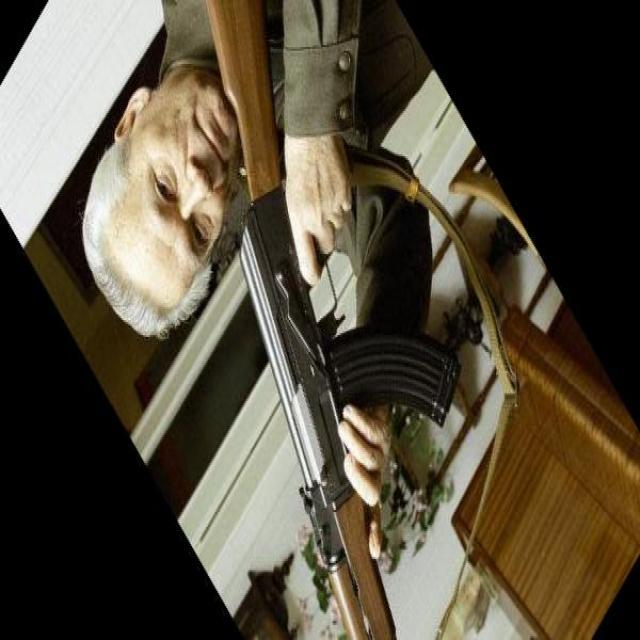weapon: (209, 0, 463, 640)
